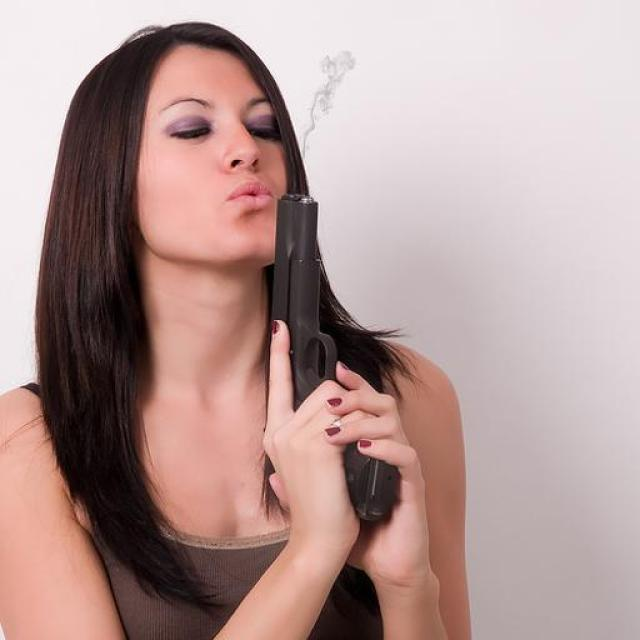pistol: (268, 195, 399, 522)
